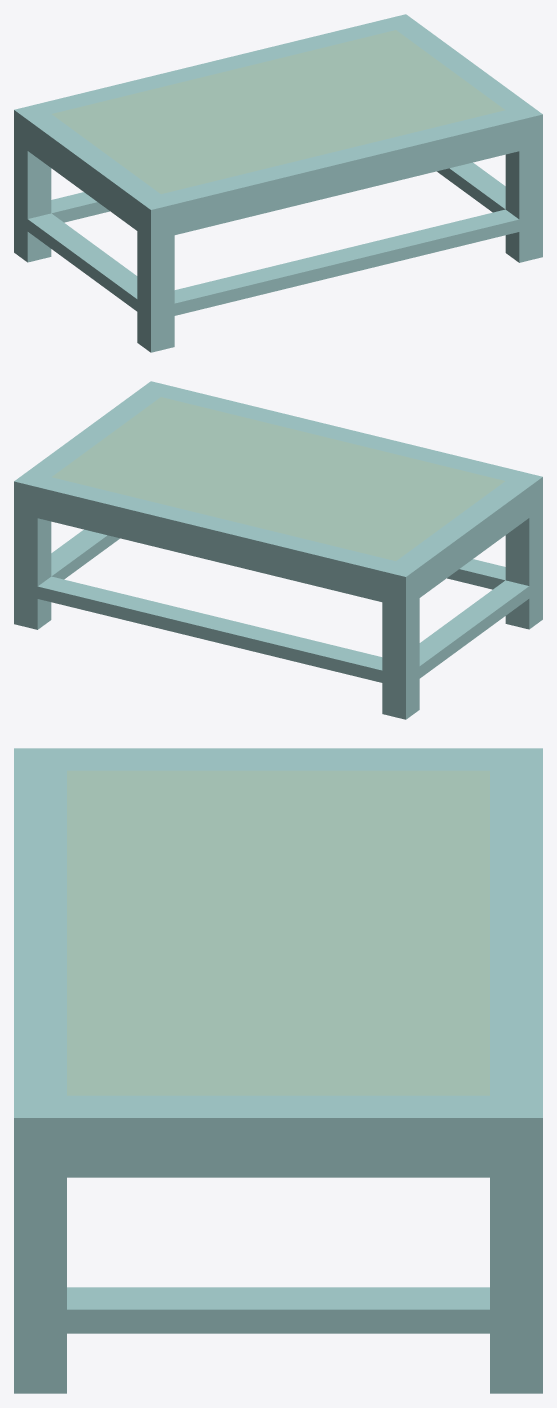
File: tableCoffeeGlass.glb
3 renders of one model, top to bottom at view 1: azimuth 30°, elevation 25°; view 2: azimuth 150°, elevation 25°; view 3: azimuth 270°, elevation 25°, orthographic. The views are drawn at different scales.
Bounding box in the file's own units: 6.61 × 2.3 × 4.
